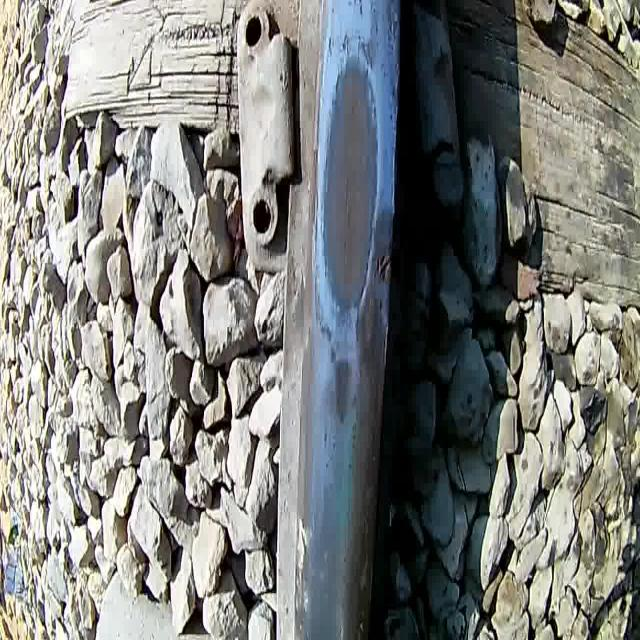Spallings: (372, 242, 392, 290)
Squats: (310, 42, 396, 434)
